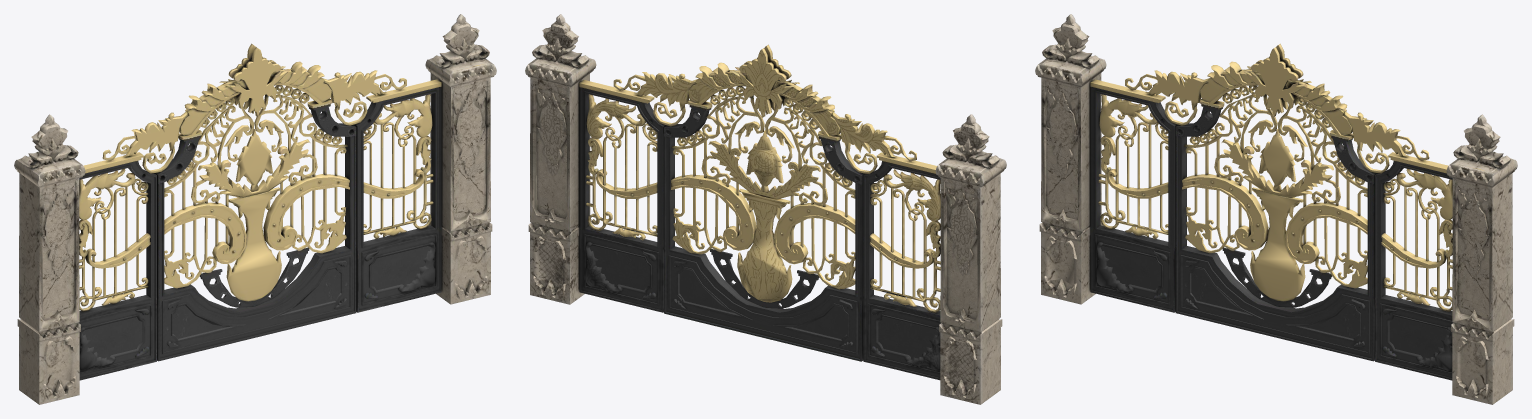
The model's file is reja.glb.
The picture shows the model from 3 angles, left to right: view 1: azimuth 30°, elevation 25°; view 2: azimuth 150°, elevation 25°; view 3: azimuth 330°, elevation 25°; orthographic projection.
Parts seen in each view (by area): view 1: porton, puerta, puerta.001; view 2: porton, puerta, puerta.001; view 3: porton, puerta.001, puerta.
Boxes of the visible parts, box(x1,y1,x2,y2) form: porton: box(14, 14, 496, 404); puerta: box(353, 79, 441, 312); puerta.001: box(78, 152, 156, 380); porton: box(525, 14, 1006, 404); puerta: box(579, 80, 666, 312); puerta.001: box(863, 152, 941, 380); porton: box(1035, 14, 1517, 404); puerta.001: box(1090, 79, 1178, 312); puerta: box(1375, 152, 1453, 380).
Bounding box in the file's own units: 4.75 × 2.91 × 0.4286.
1 material, 1 textured.
